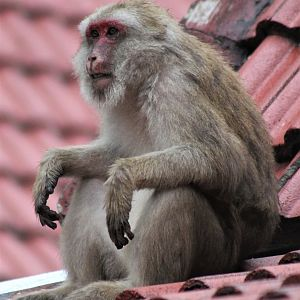monkey: (25, 2, 289, 300)
